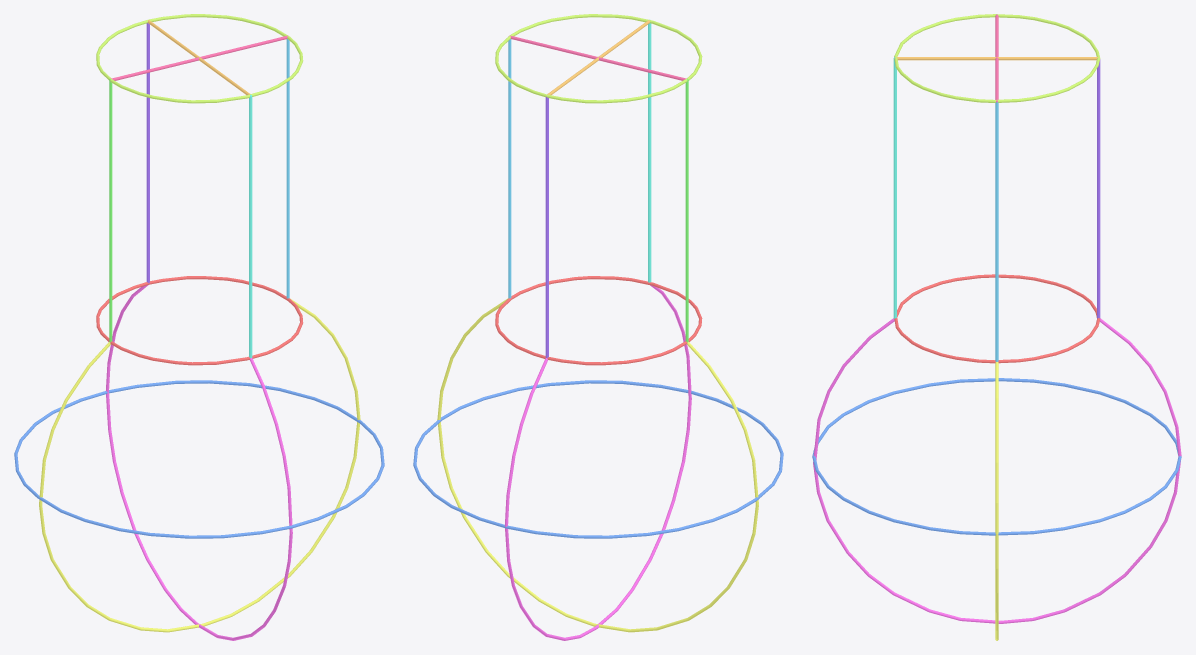
Rendered from flowrep_spherecylinder.gltf.
The picture shows the model from 3 angles, left to right: view 1: azimuth 30°, elevation 25°; view 2: azimuth 150°, elevation 25°; view 3: azimuth 270°, elevation 25°; orthographic projection.
Size of the model in its own units: 0.4558 by 0.7726 by 0.4564.
